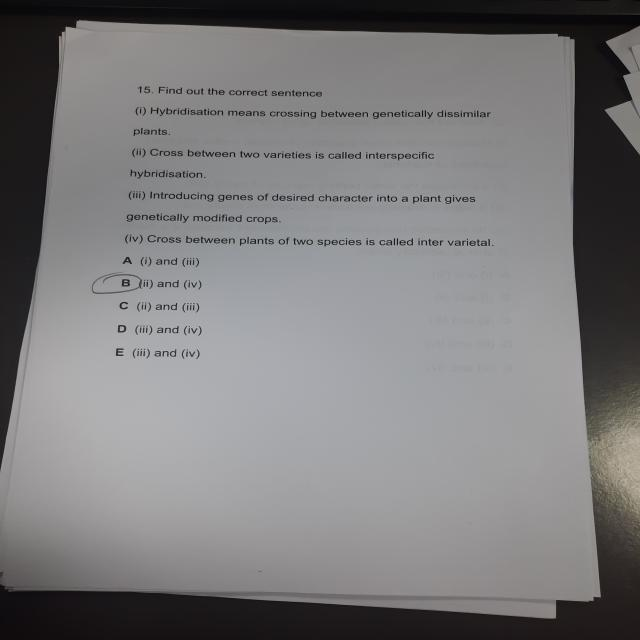B: (91, 273, 150, 299)
